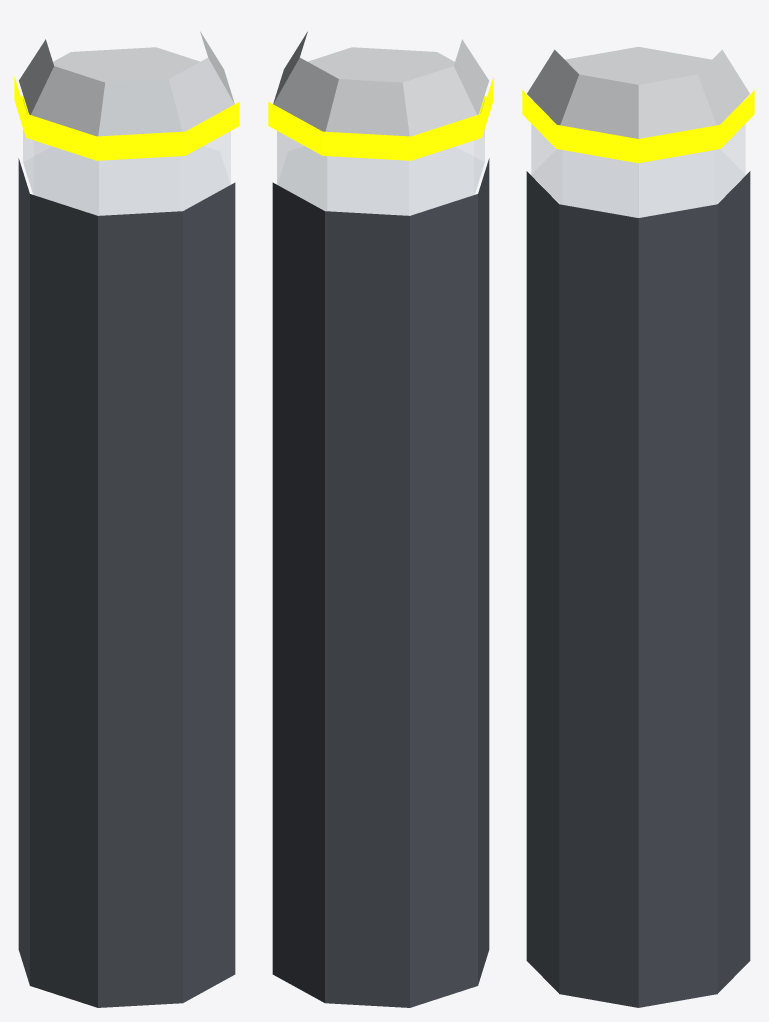
Rendered from ext_bollard_05.glb.
3 renders of one model, left to right at view 1: azimuth 30°, elevation 25°; view 2: azimuth 150°, elevation 25°; view 3: azimuth 270°, elevation 25°, orthographic.
Parts seen in each view (by area): view 1: Post, Cap, Glass_Lens, Amber_Halo; view 2: Post, Cap, Glass_Lens, Amber_Halo; view 3: Post, Cap, Glass_Lens, Amber_Halo.
Boxes of the visible parts, box(x1,y1,x2,y2) form: Post: box(18, 158, 235, 1007); Cap: box(19, 31, 234, 136); Glass_Lens: box(23, 99, 230, 215); Amber_Halo: box(14, 76, 239, 160); Post: box(272, 158, 489, 1007); Cap: box(273, 31, 488, 136); Glass_Lens: box(277, 99, 484, 215); Amber_Halo: box(268, 76, 493, 160); Post: box(526, 171, 750, 1007); Cap: box(527, 46, 749, 138); Glass_Lens: box(531, 124, 745, 217); Amber_Halo: box(522, 90, 754, 163).
Size of the model in its own units: 0.208 by 0.9 by 0.208.
